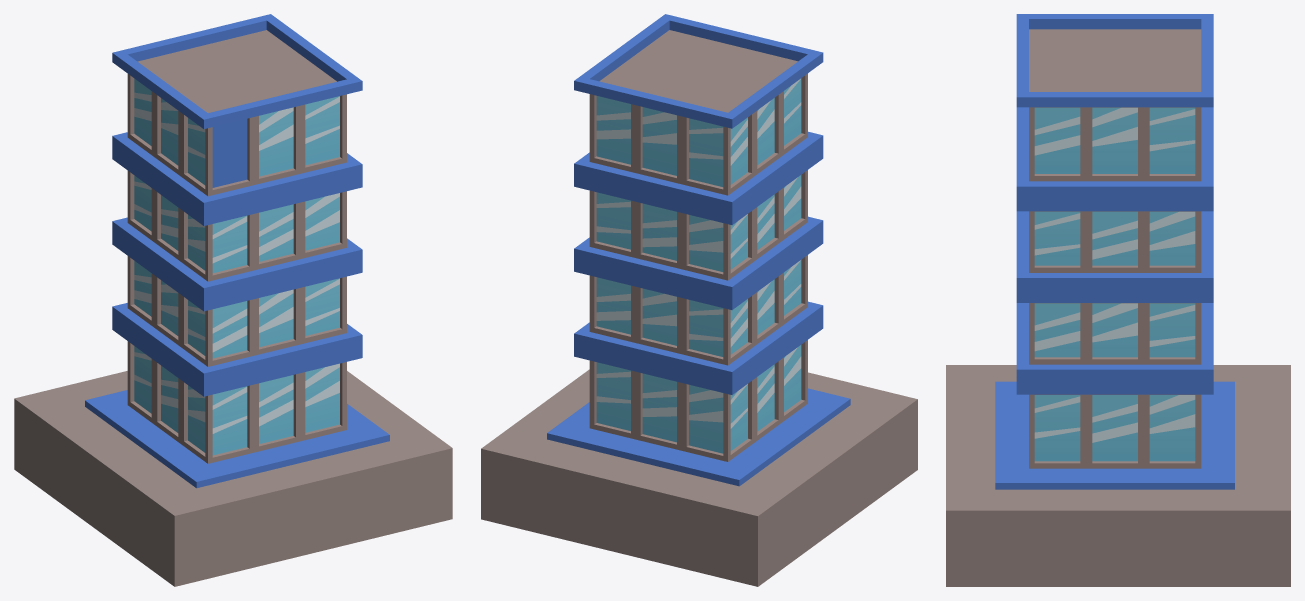
File: Blue_Office.fbx
3 views of the same model, side by side, from view 1: azimuth 30°, elevation 25°; view 2: azimuth 150°, elevation 25°; view 3: azimuth 270°, elevation 25° (orthographic). The views are drawn at different scales.
Visible parts, largest first — view 1: Blue_Office; view 2: Blue_Office; view 3: Blue_Office.
Part boxes in pixels (x1,y1,x2,y2): Blue_Office: (14,14,452,586); Blue_Office: (481,14,917,586); Blue_Office: (946,14,1290,586).
Size of the model in its own units: 400 by 588 by 400.
